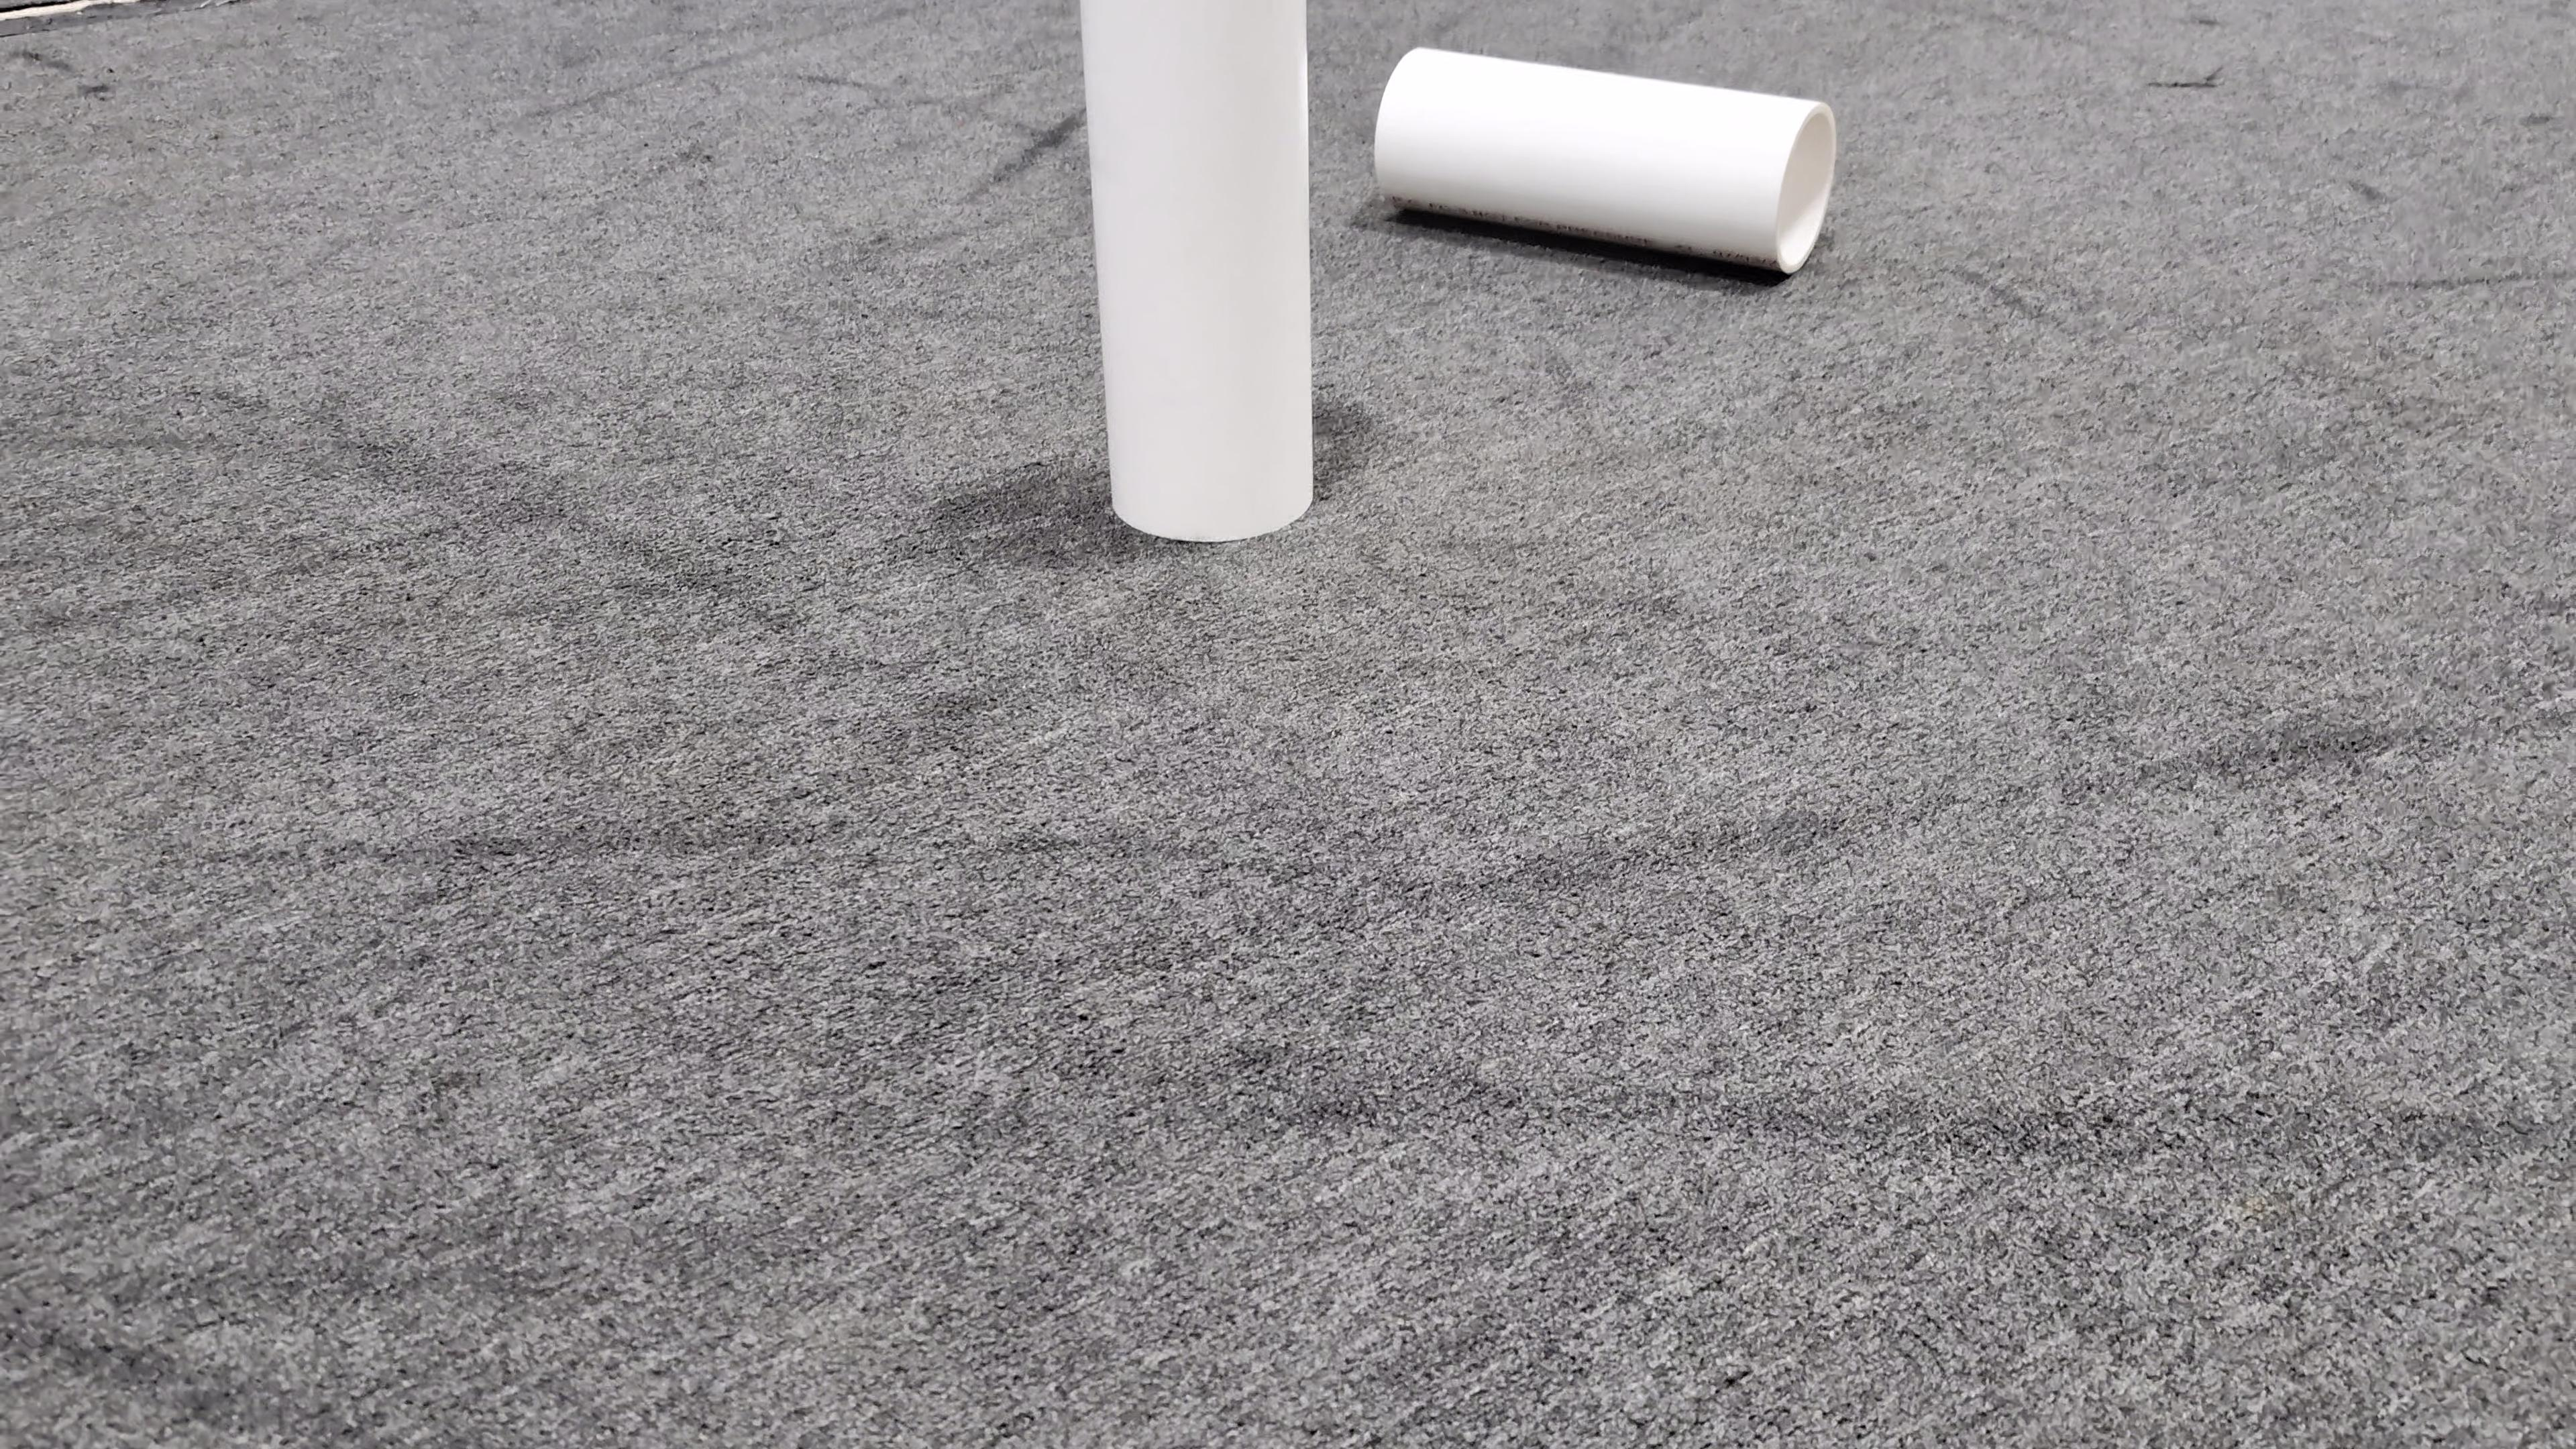coral: (1072, 4, 1316, 540), (1371, 42, 1838, 272)
